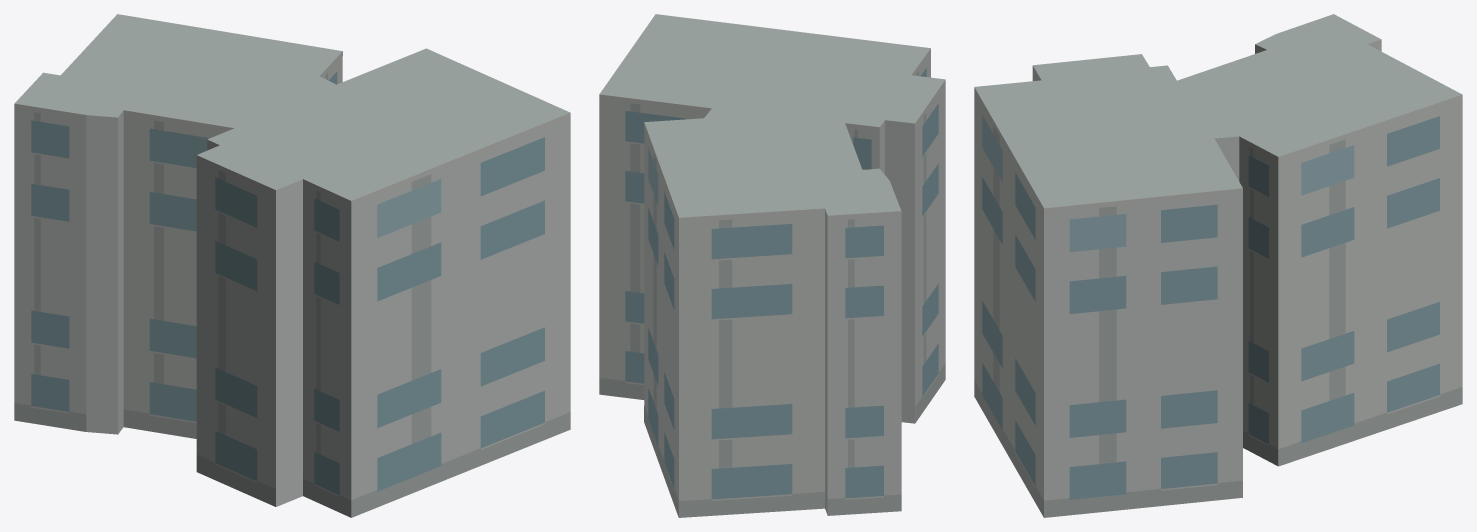
Rendered from survey-upis-32954270.glb.
3 views of the same model, side by side, from view 1: azimuth 30°, elevation 25°; view 2: azimuth 150°, elevation 25°; view 3: azimuth 270°, elevation 25° (orthographic). The views are drawn at different scales.
Parts seen in each view (by area): view 1: survey-upis-32954270.tmp; view 2: survey-upis-32954270.tmp; view 3: survey-upis-32954270.tmp.
Part boxes in pixels (x1,y1,x2,y2): survey-upis-32954270.tmp: (14,14,570,517); survey-upis-32954270.tmp: (599,14,945,517); survey-upis-32954270.tmp: (974,14,1462,517).
Bounding box in the file's own units: 19.68 × 14.6 × 20.89.
